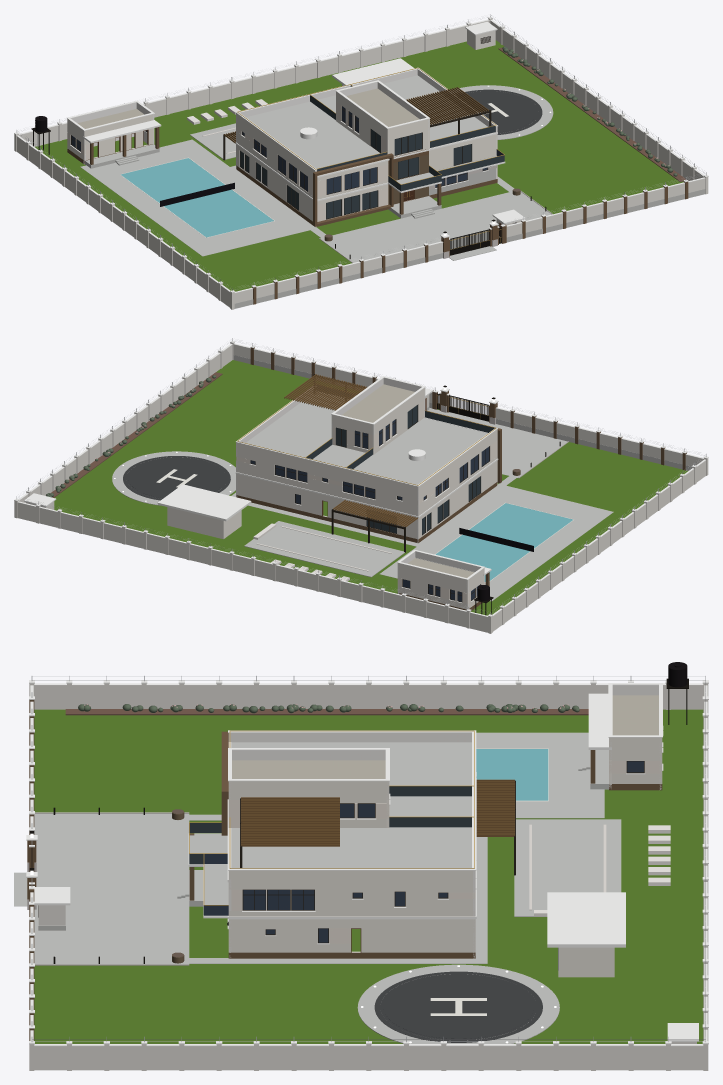
Rendered from est_S10.glb.
The picture shows the model from 3 angles, top to bottom: view 1: azimuth 30°, elevation 25°; view 2: azimuth 150°, elevation 25°; view 3: azimuth 270°, elevation 25°; orthographic projection. The views are drawn at different scales.
Visible parts, largest first — view 1: GR_est_S10, GD_est_S10, GT_est_S10; view 2: GR_est_S10, GD_est_S10, GT_est_S10; view 3: GR_est_S10, GD_est_S10.
Part boxes in pixels (bbox=[...]): GR_est_S10: bbox=[14, 18, 708, 309]; GD_est_S10: bbox=[14, 14, 708, 292]; GT_est_S10: bbox=[450, 227, 501, 255]; GR_est_S10: bbox=[14, 342, 708, 633]; GD_est_S10: bbox=[14, 338, 708, 616]; GT_est_S10: bbox=[437, 393, 488, 421]; GR_est_S10: bbox=[14, 683, 708, 1070]; GD_est_S10: bbox=[26, 662, 708, 1044].
Size of the model in its own units: 76.55 by 13.93 by 61.88.
Materials: 8 (2 with a texture image).
